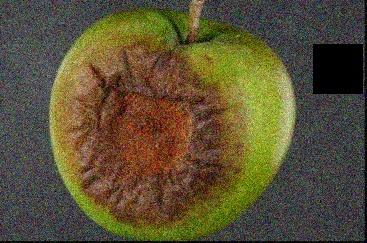rotten apple: (46, 5, 299, 241)
